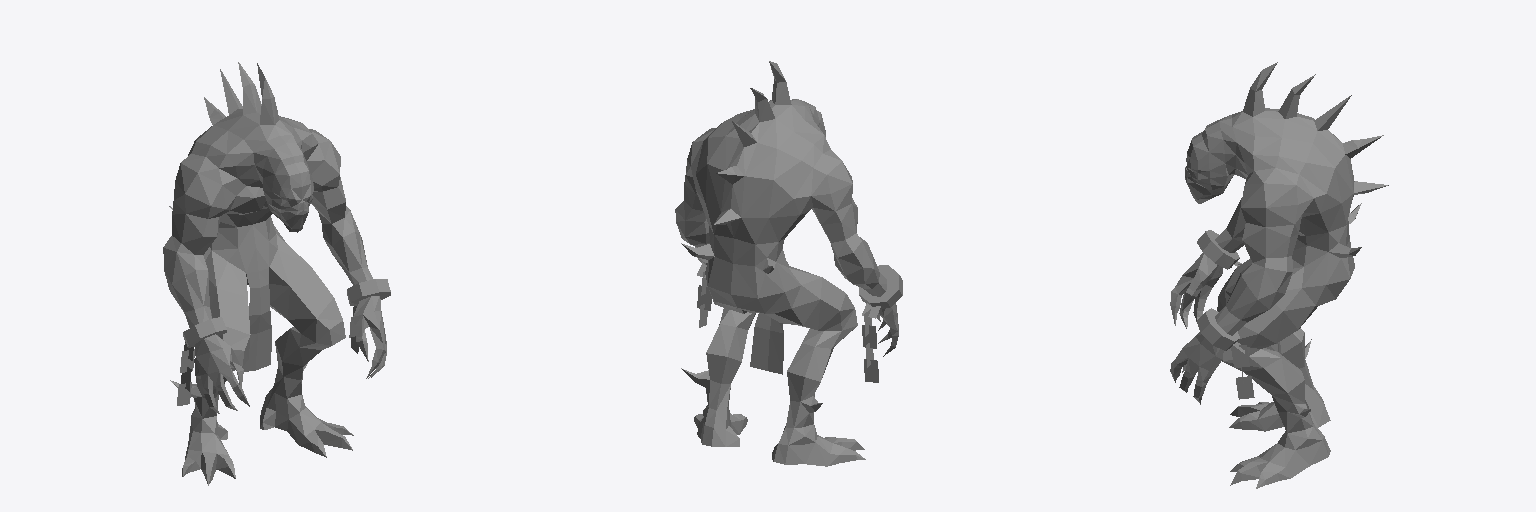
File: aaa.obj
3 renders of one model, left to right at view 1: azimuth 30°, elevation 25°; view 2: azimuth 150°, elevation 25°; view 3: azimuth 270°, elevation 25°, orthographic.
Parts seen in each view (by area): view 1: m03; view 2: m03; view 3: m03.
Boxes of the visible parts, x1,y1,x2,y2 form: m03: [163, 62, 390, 485]; m03: [675, 61, 902, 466]; m03: [1170, 62, 1388, 488].
Size of the model in its own units: 1.14 by 2.08 by 1.06.